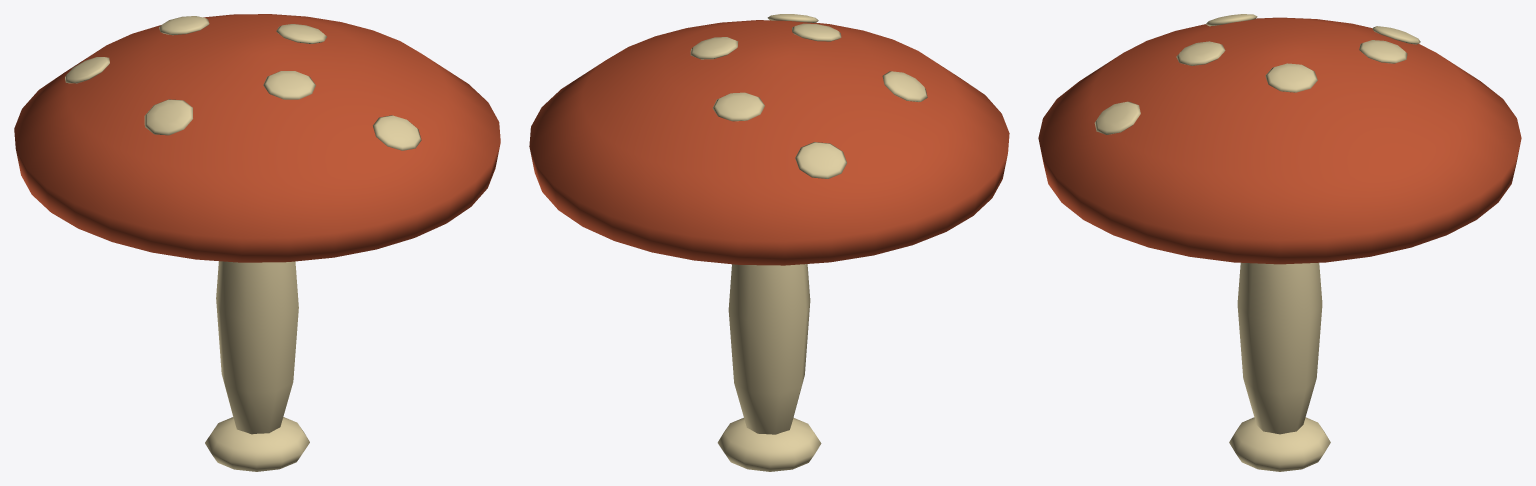
File: lvl01_environment_mushroom_spotted_v01.glb
3 renders of one model, left to right at view 1: azimuth 30°, elevation 25°; view 2: azimuth 150°, elevation 25°; view 3: azimuth 270°, elevation 25°, orthographic.
Parts seen in each view (by area): view 1: cap, stem, base, cap_spot_02, cap_spot_03, cap_spot_04, cap_spot_05, cap_spot_00, cap_spot_01; view 2: cap, stem, base, cap_spot_05, cap_spot_01, cap_spot_02, cap_spot_00, cap_spot_04; view 3: cap, stem, base, cap_spot_00, cap_spot_03, cap_spot_04, cap_spot_01.
Boxes of the visible parts, x1=… form: cap: x1=14, y1=14, x2=500, y2=262; stem: x1=216, y1=261, x2=298, y2=434; base: x1=205, y1=417, x2=309, y2=471; cap_spot_02: x1=144, y1=99, x2=192, y2=135; cap_spot_03: x1=373, y1=115, x2=421, y2=150; cap_spot_04: x1=263, y1=71, x2=315, y2=99; cap_spot_05: x1=65, y1=57, x2=109, y2=83; cap_spot_00: x1=276, y1=24, x2=326, y2=43; cap_spot_01: x1=159, y1=16, x2=209, y2=35; cap: x1=529, y1=20, x2=1009, y2=265; stem: x1=728, y1=264, x2=810, y2=434; base: x1=717, y1=417, x2=821, y2=471; cap_spot_05: x1=795, y1=142, x2=846, y2=178; cap_spot_01: x1=712, y1=92, x2=764, y2=121; cap_spot_02: x1=882, y1=71, x2=927, y2=102; cap_spot_00: x1=690, y1=37, x2=738, y2=59; cap_spot_04: x1=792, y1=23, x2=841, y2=41; cap: x1=1038, y1=17, x2=1521, y2=264; stem: x1=1237, y1=262, x2=1322, y2=434; base: x1=1229, y1=417, x2=1330, y2=471; cap_spot_00: x1=1265, y1=63, x2=1317, y2=92; cap_spot_03: x1=1094, y1=101, x2=1140, y2=134; cap_spot_04: x1=1176, y1=41, x2=1225, y2=65; cap_spot_01: x1=1359, y1=40, x2=1407, y2=63.
Size of the model in its own units: 1.82 by 1.73 by 1.82.
1 material, 1 textured.
